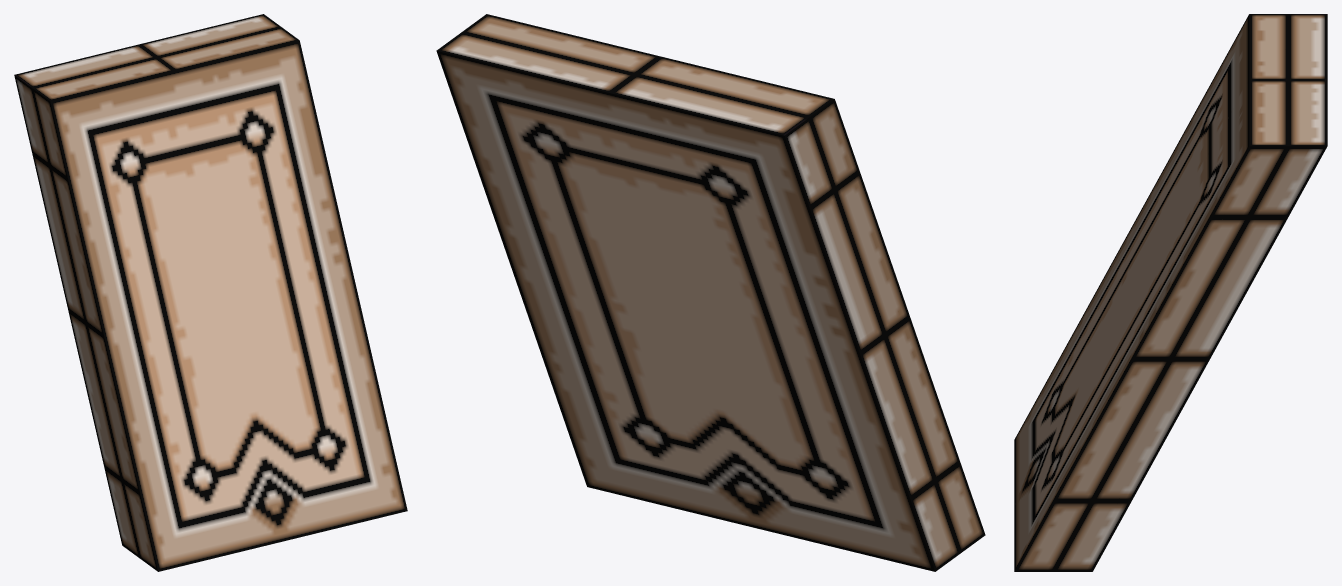
File: deco_door.FBX
3 views of the same model, side by side, from view 1: azimuth 30°, elevation 25°; view 2: azimuth 150°, elevation 25°; view 3: azimuth 270°, elevation 25° (orthographic). The views are drawn at different scales.
Parts seen in each view (by area): view 1: deco_door; view 2: deco_door; view 3: deco_door.
Part boxes in pixels (box(x1,y1,x2,y2)): deco_door: box(14, 14, 407, 571); deco_door: box(436, 14, 985, 571); deco_door: box(1014, 14, 1327, 571).
Bounding box in the file's own units: 2 × 3 × 2.
1 material, 1 textured.
